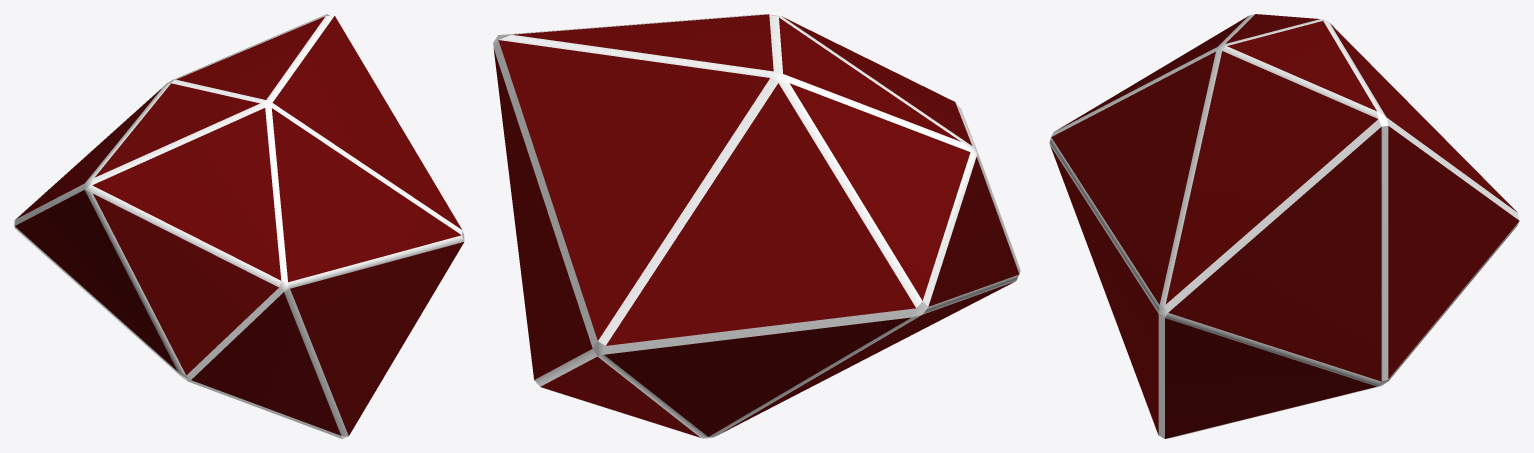
Rendered from Rocker2.fbx.
3 renders of one model, left to right at view 1: azimuth 30°, elevation 25°; view 2: azimuth 150°, elevation 25°; view 3: azimuth 270°, elevation 25°, orthographic. The views are drawn at different scales.
Visible parts, largest first — view 1: Rocker2; view 2: Rocker2; view 3: Rocker2.
Boxes of the visible parts, box(x1,y1,x2,y2) form: Rocker2: box(14, 14, 464, 438); Rocker2: box(493, 14, 1020, 438); Rocker2: box(1049, 14, 1519, 438).
Bounding box in the file's own units: 182 × 162 × 187.
